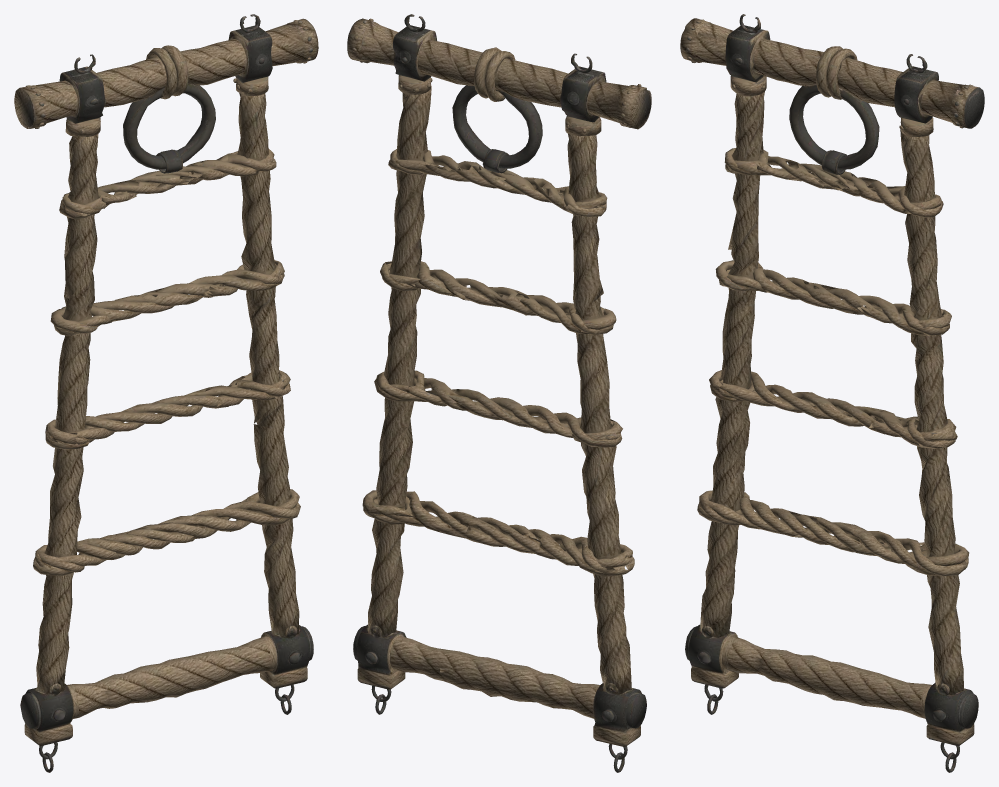
The model's file is ladder.glb.
The picture shows the model from 3 angles, left to right: view 1: azimuth 30°, elevation 25°; view 2: azimuth 150°, elevation 25°; view 3: azimuth 330°, elevation 25°; orthographic projection.
Parts seen in each view (by area): view 1: midway-fit; view 2: midway-fit; view 3: midway-fit.
Boxes of the visible parts, x1=… form: midway-fit: x1=14, y1=14, x2=318, y2=772; midway-fit: x1=347, y1=14, x2=651, y2=772; midway-fit: x1=680, y1=14, x2=984, y2=772.
Bounding box in the file's own units: 0.4194 × 1 × 0.0734.
Materials: 1 (1 with a texture image).
